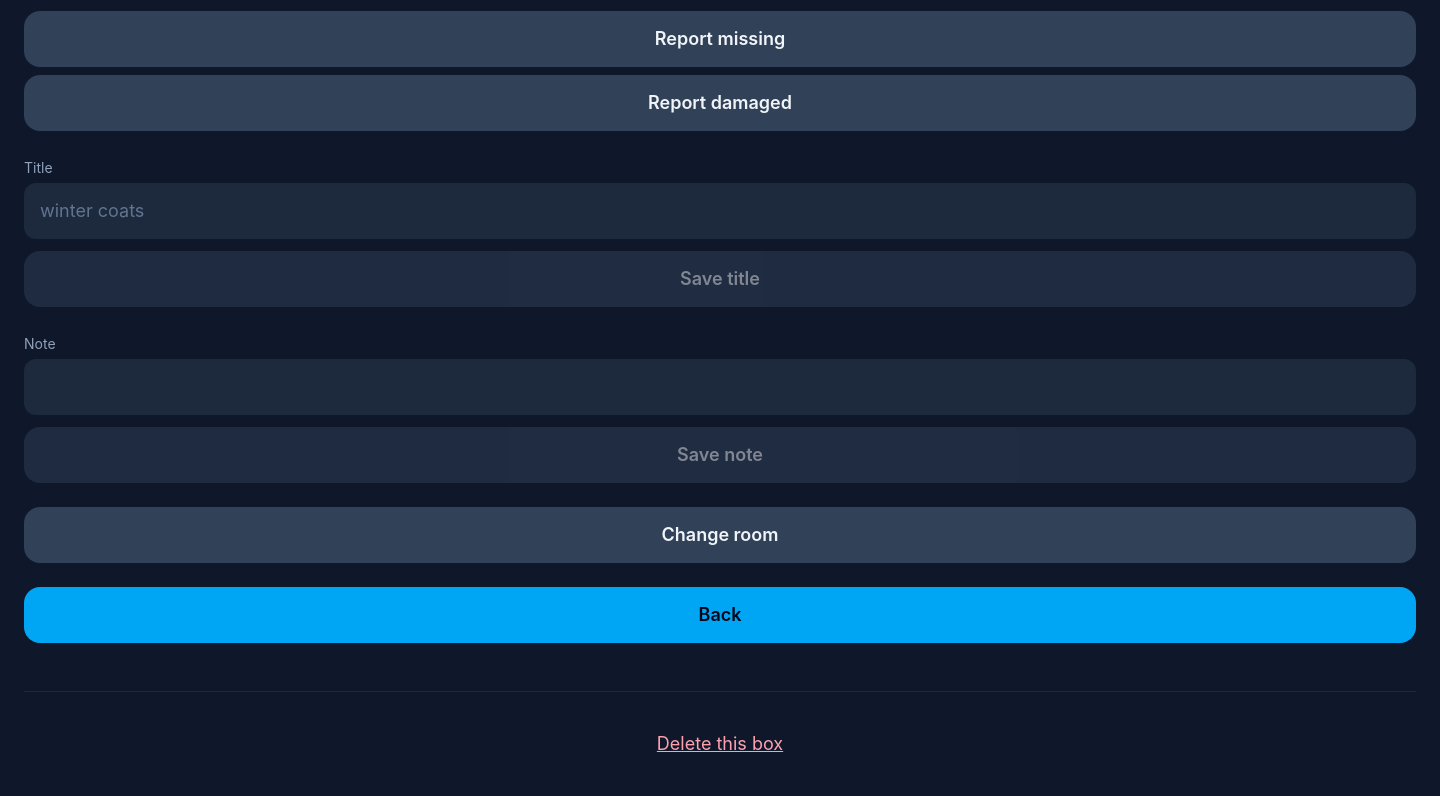
Test: removing a box › says the number will be used again before deleting
(page scrolled)
Click the button "Delete this box" at point(720, 744), box [24,716,1416,772]
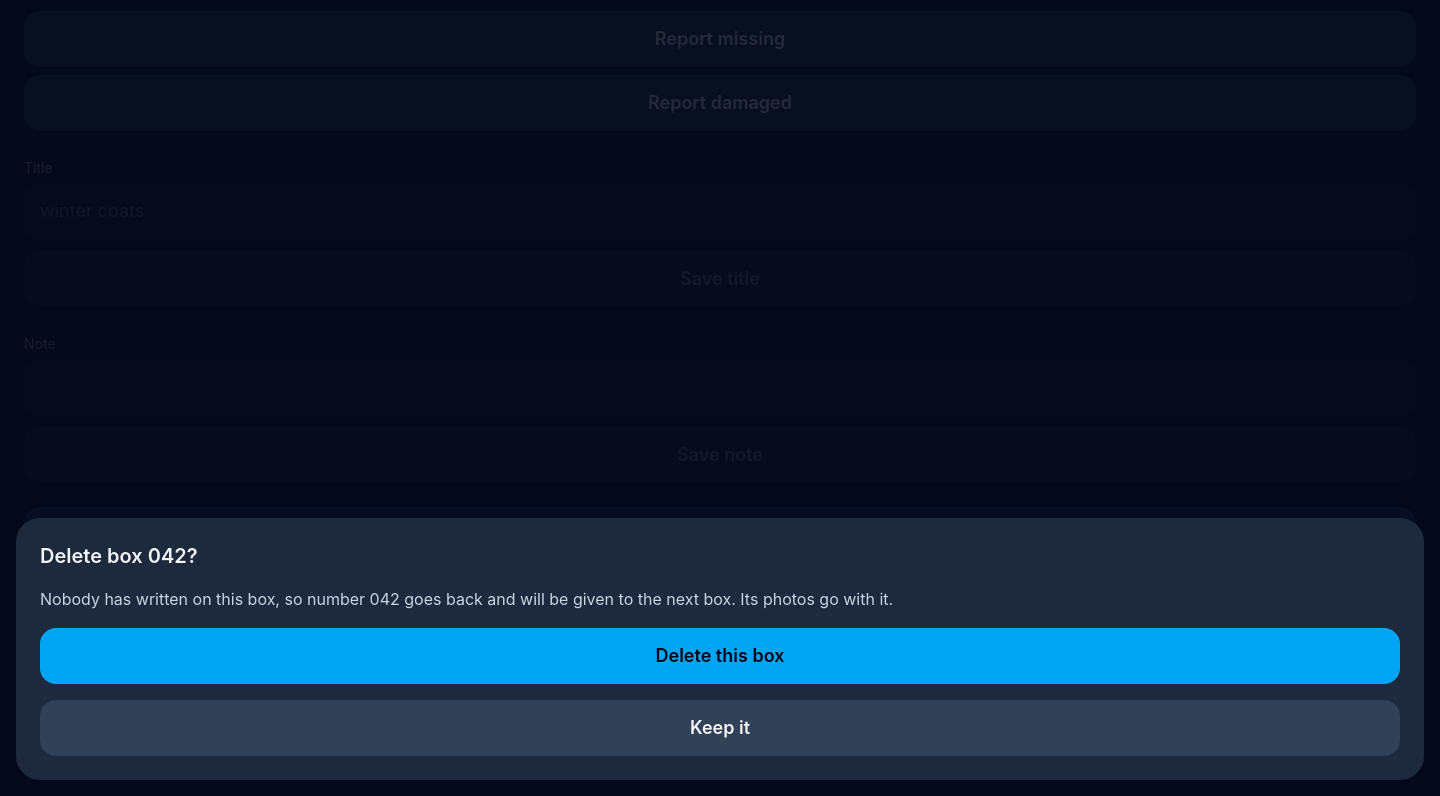
Now the text "goes back and will be given to the next box" is shown, box [40,589,893,609]
